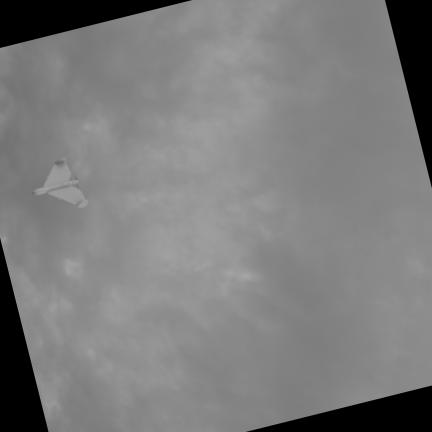Shahed: (32, 158, 86, 207)
